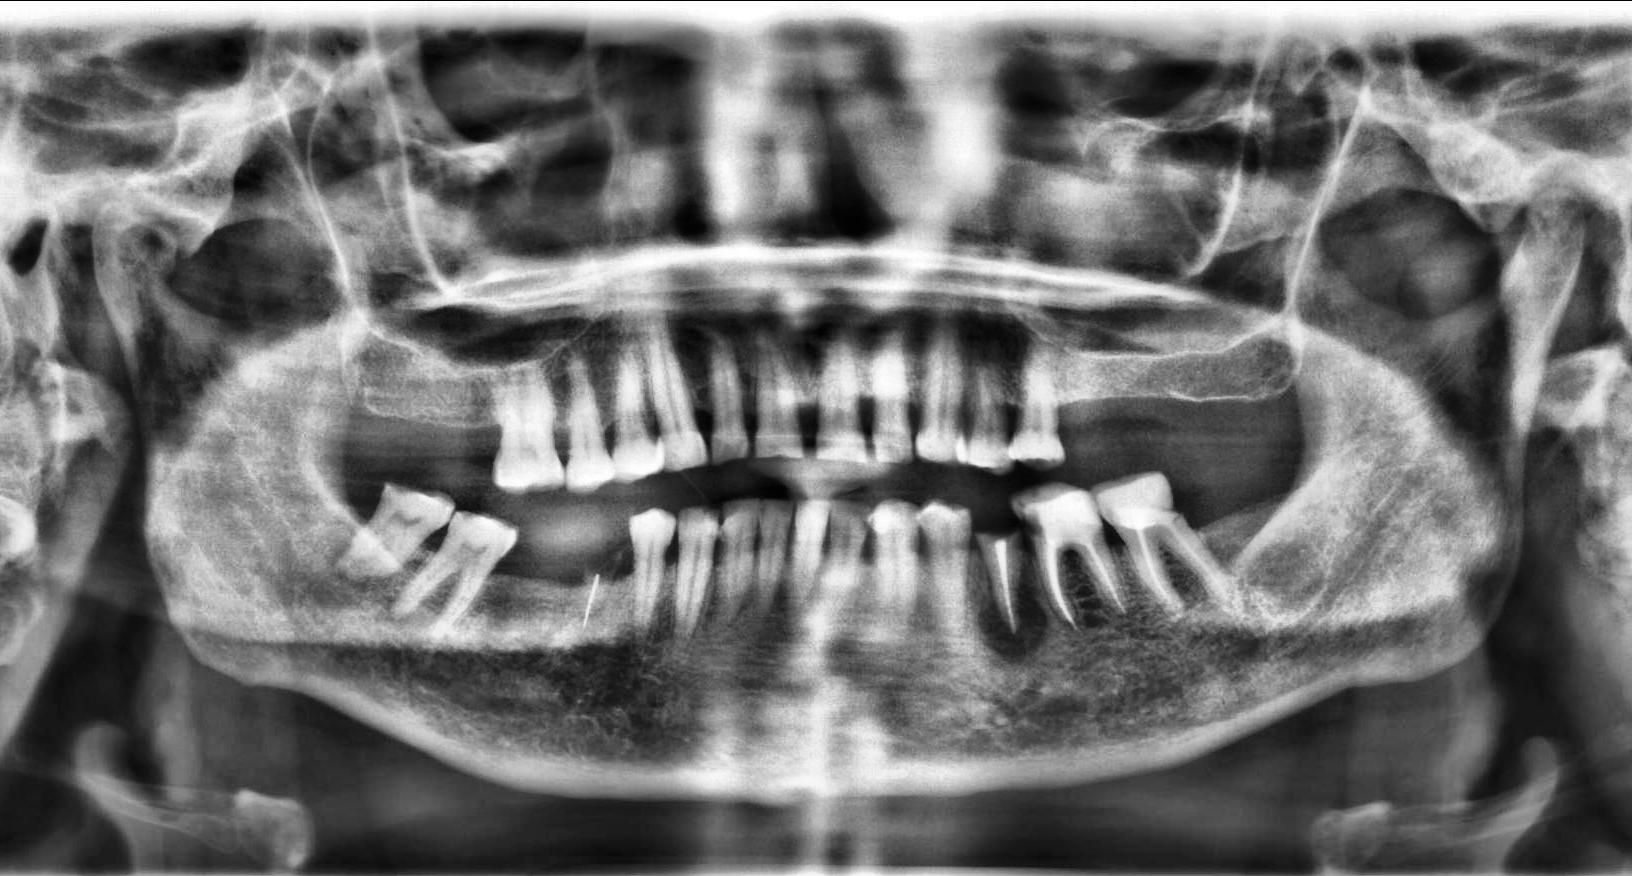radicular: (975, 593, 1050, 669)
